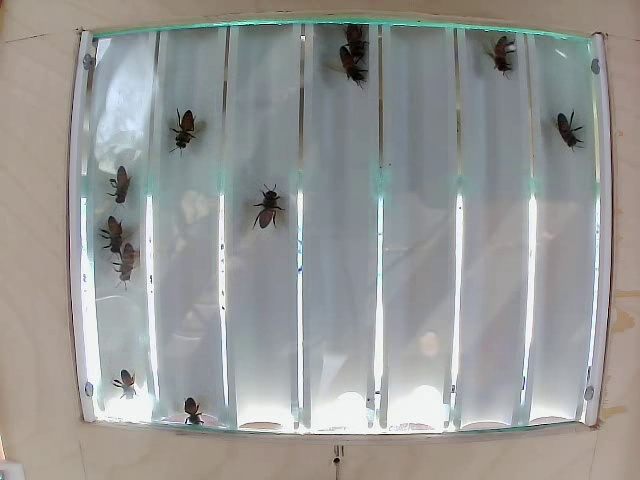bee: (332, 48, 368, 90), (492, 40, 524, 77), (176, 119, 204, 161), (554, 114, 581, 156), (176, 387, 208, 422), (248, 188, 279, 224), (111, 358, 137, 396), (104, 175, 127, 213), (112, 241, 135, 279), (97, 215, 118, 248)
